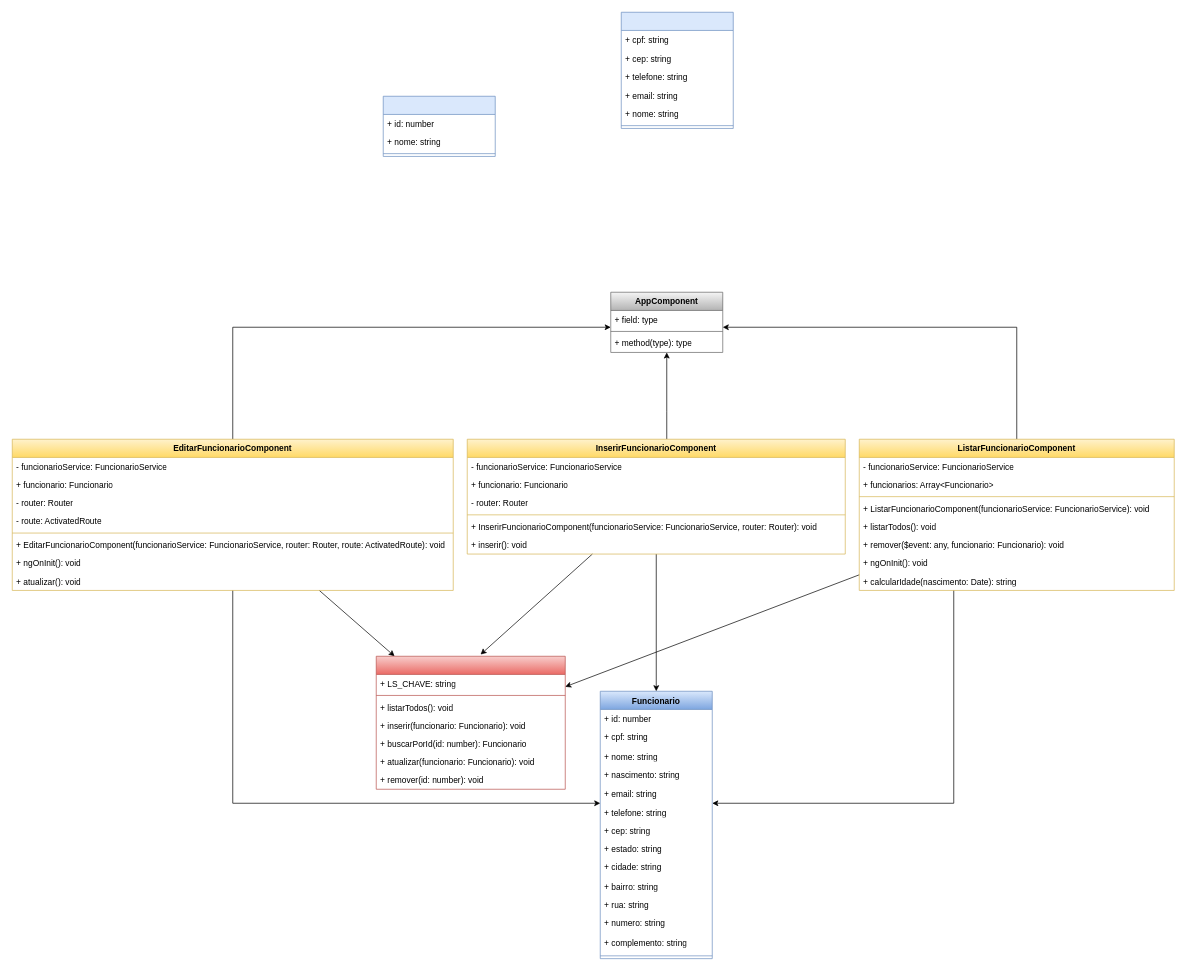
This 1187x971 diagram has some shape labels left out. Here are the shapes that lost their labels. From the top down, the box of each, then its label:
(621, 12, 733, 128): Cliente
(383, 96, 495, 156): Categoria
(376, 656, 565, 789): FuncionarioService
